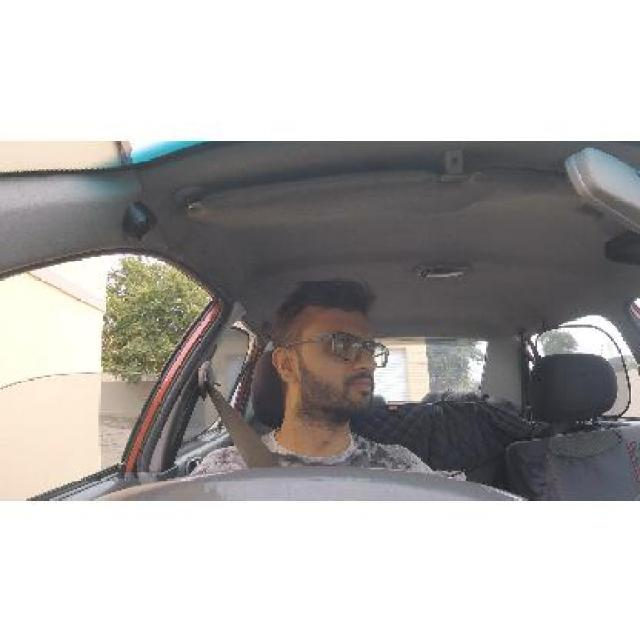LeftRight: (261, 258, 418, 458)
